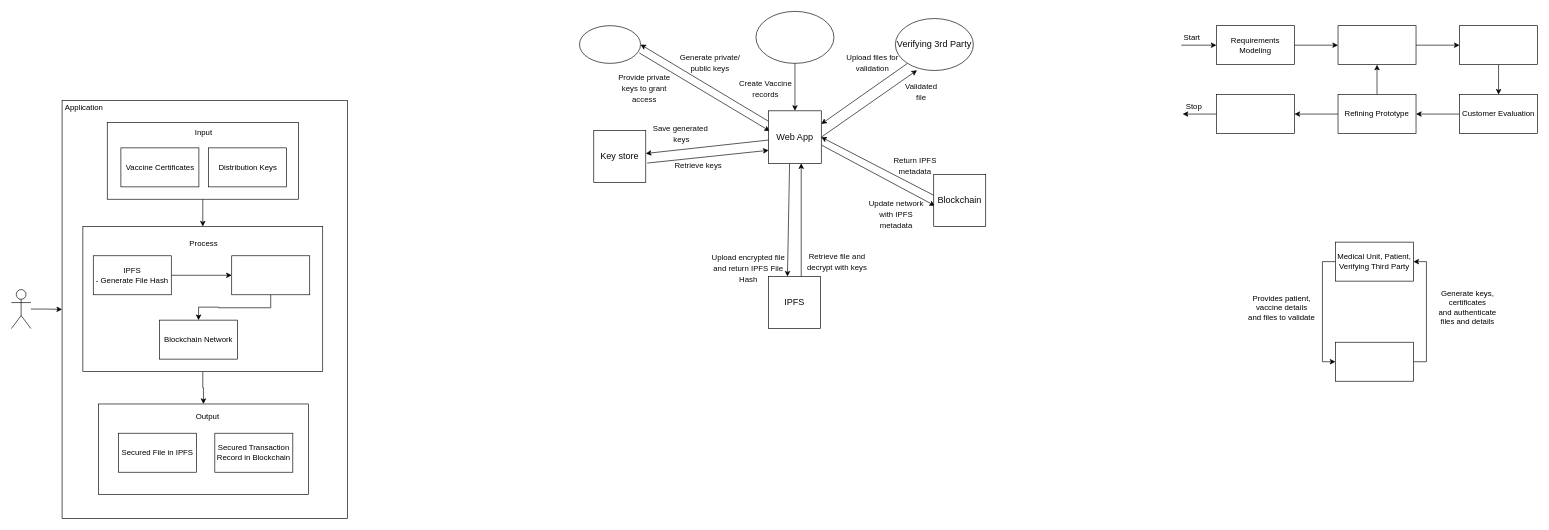
The diagram is 1549 pixels wide and 530 high, and some of its shapes have lost their labels. The centre of each missing label's shape, as x and y in pixels:
"Building Prototype" belongs at point (1498, 45).
"Engineer Product" belongs at point (1255, 114).
"Medical Unit" belongs at point (794, 37).
"Patient" belongs at point (610, 44).
"Proposed Blockchain Application" belongs at point (1374, 361).
"Quick Design" belongs at point (1376, 45).
"Smart Contract Rules" belongs at point (270, 275).
"User" belongs at point (21, 309).
